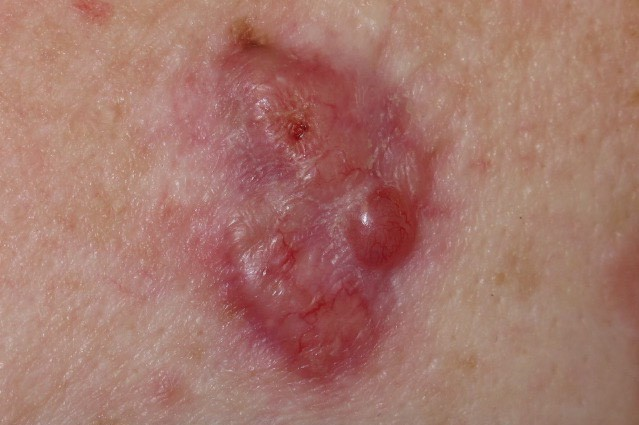Basa Cell Carcinoma: (169, 11, 476, 394)
